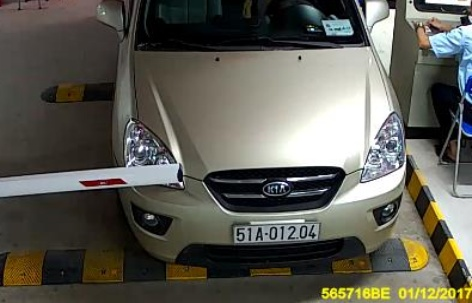plate: (233, 218, 319, 252)
